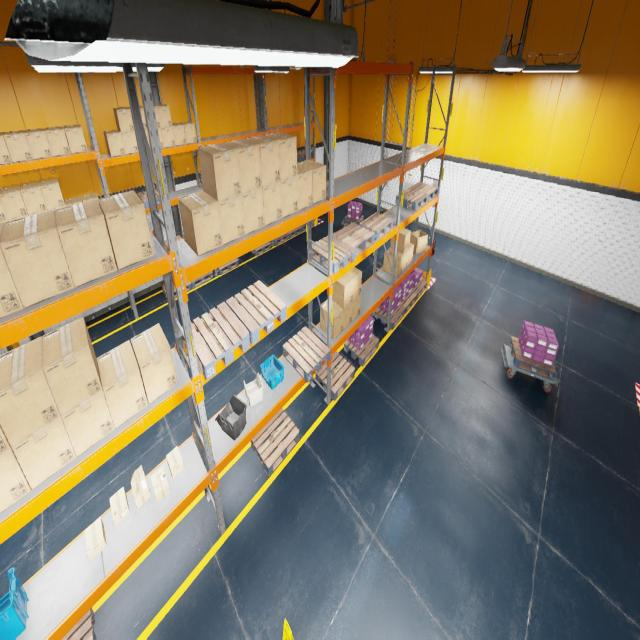box: (0, 209, 74, 307), (0, 336, 60, 446), (42, 316, 102, 415), (55, 199, 117, 288), (60, 362, 114, 456), (12, 416, 76, 489), (96, 340, 148, 429), (98, 190, 154, 270), (130, 323, 178, 404), (178, 191, 223, 256), (197, 142, 241, 202), (0, 222, 24, 318), (221, 138, 262, 194), (0, 446, 31, 513), (243, 135, 280, 186), (262, 132, 297, 180), (218, 194, 245, 245), (297, 159, 326, 204), (242, 187, 264, 235), (320, 299, 344, 339), (3, 130, 33, 162), (0, 185, 28, 219), (85, 516, 106, 560), (262, 181, 282, 226), (20, 182, 47, 214), (109, 486, 130, 526), (131, 464, 150, 508), (26, 128, 52, 159), (40, 178, 65, 209), (45, 126, 70, 156), (150, 466, 170, 503), (281, 175, 298, 218), (63, 125, 88, 154), (332, 274, 353, 308), (298, 165, 312, 210), (166, 446, 184, 478), (383, 248, 403, 276), (390, 228, 411, 254), (104, 130, 125, 156), (346, 266, 362, 300), (113, 107, 134, 132), (335, 301, 352, 330), (128, 106, 147, 129), (410, 230, 428, 254), (154, 104, 172, 128), (141, 106, 160, 128), (391, 248, 409, 271), (179, 121, 197, 144), (121, 131, 138, 154), (0, 132, 12, 164), (172, 122, 186, 146), (161, 126, 175, 148), (0, 424, 10, 453), (352, 294, 361, 322), (0, 189, 7, 221), (81, 192, 99, 204), (64, 196, 82, 206), (407, 242, 414, 266), (48, 203, 66, 211), (28, 210, 48, 216), (8, 214, 28, 220), (158, 128, 164, 148), (144, 130, 150, 150), (0, 220, 8, 223)
pallets: (183, 302, 250, 380), (226, 280, 286, 344), (251, 408, 299, 476), (282, 327, 330, 382), (509, 336, 556, 380), (316, 350, 354, 400), (312, 235, 355, 274), (333, 223, 374, 255), (61, 608, 96, 640), (344, 334, 379, 366), (359, 212, 393, 241), (374, 304, 405, 330), (395, 188, 428, 211), (408, 182, 438, 201), (162, 282, 192, 298), (137, 188, 160, 208), (400, 290, 417, 314), (191, 270, 213, 288), (217, 258, 239, 274), (411, 279, 427, 299), (252, 242, 271, 255), (271, 233, 289, 245), (344, 214, 363, 225), (164, 235, 182, 245), (287, 226, 302, 238), (297, 149, 313, 160), (300, 221, 314, 231), (199, 175, 202, 184), (297, 154, 300, 161), (182, 233, 184, 238)
